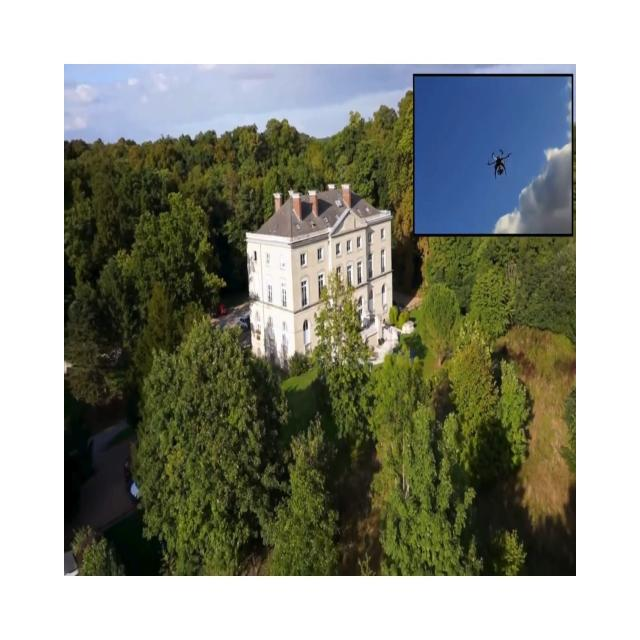drone: (487, 148, 511, 180)
